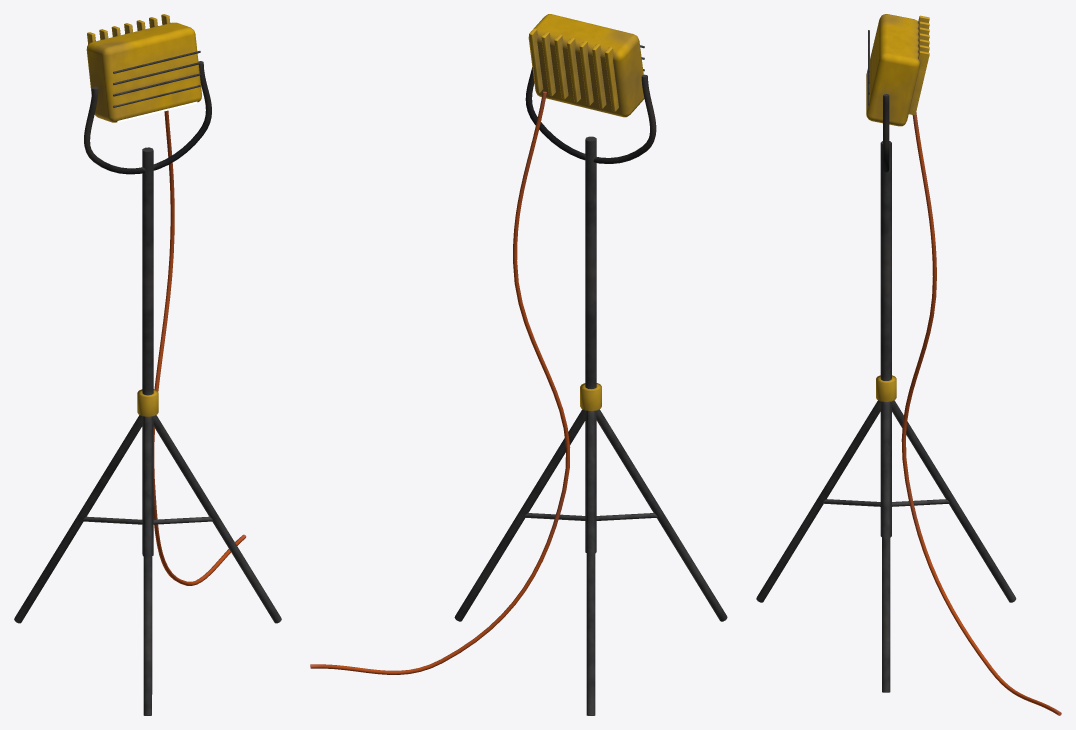
The model's file is lab_lampa.glb.
3 renders of one model, left to right at view 1: azimuth 30°, elevation 25°; view 2: azimuth 150°, elevation 25°; view 3: azimuth 270°, elevation 25°, orthographic. The views are drawn at different scales.
Visible parts, largest first — view 1: Lampa; view 2: Lampa; view 3: Lampa.
Part boxes in pixels (bbox=[...]): Lampa: bbox=[14, 14, 281, 715]; Lampa: bbox=[310, 14, 727, 715]; Lampa: bbox=[756, 14, 1061, 715].
Size of the model in its own units: 0.8247 by 1.91 by 0.8792.
Materials: 2 (1 with a texture image).
